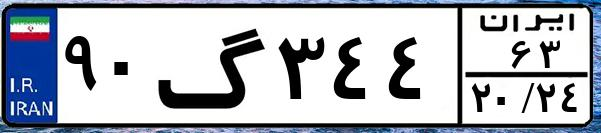0: (110, 28, 156, 98), (495, 70, 520, 125)
2: (470, 70, 495, 125), (535, 70, 560, 125)
3: (270, 28, 330, 110), (537, 27, 568, 80)
4: (385, 28, 445, 110), (330, 28, 385, 110), (560, 70, 590, 125)
6: (508, 27, 537, 80)
9: (57, 26, 110, 100)
گ: (156, 12, 270, 120)
